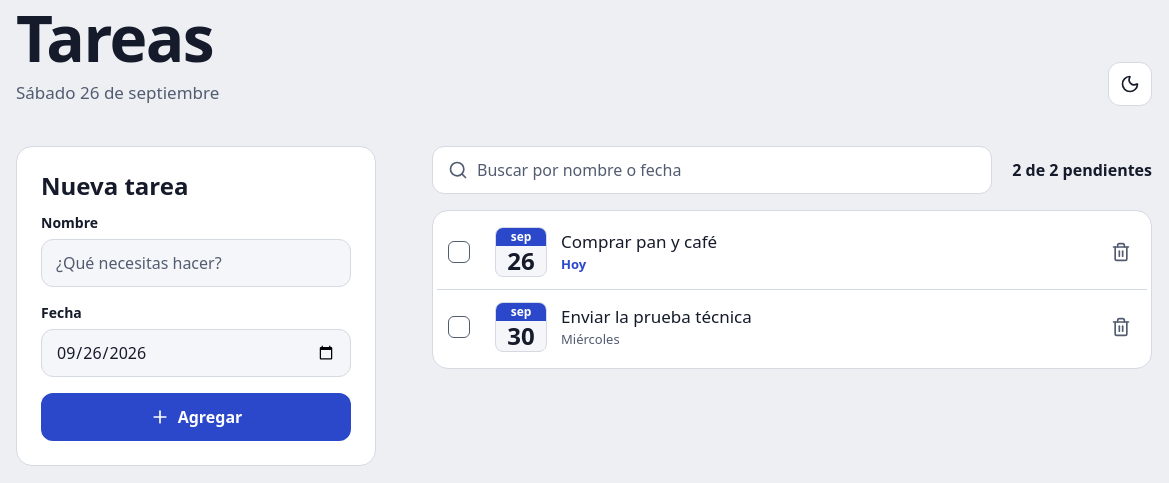
Test: deletes tasks
This screenshot has width=1169, height=483.
Click the button named "Eliminar «Comprar pan y café»".
click(1121, 252)  # box left=1099, top=230, right=1143, bottom=274
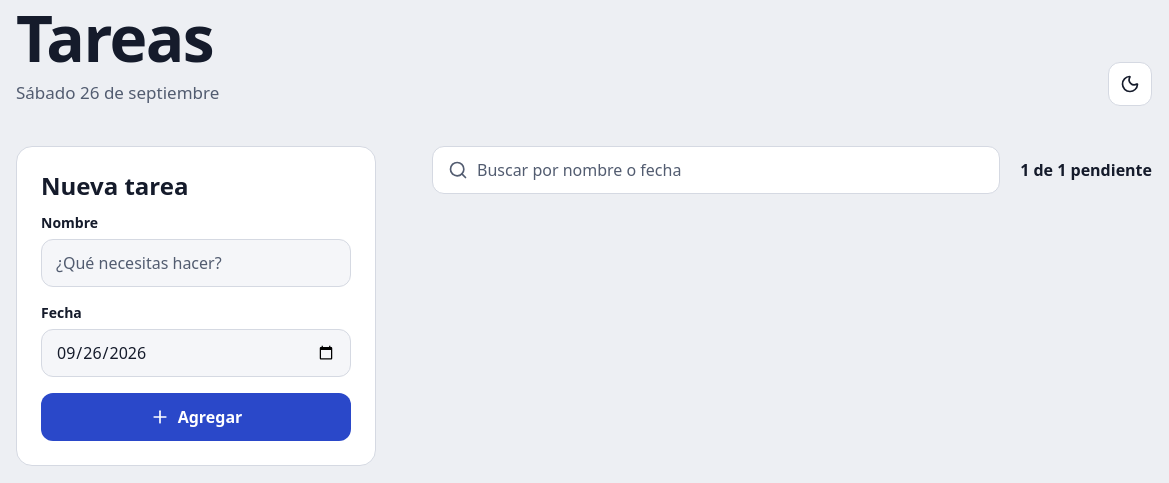
Expected: the text "Comprar pan y café" is gone
Expected: the message reads "1 de 1 pendiente", left=1020, top=158, right=1152, bottom=180
